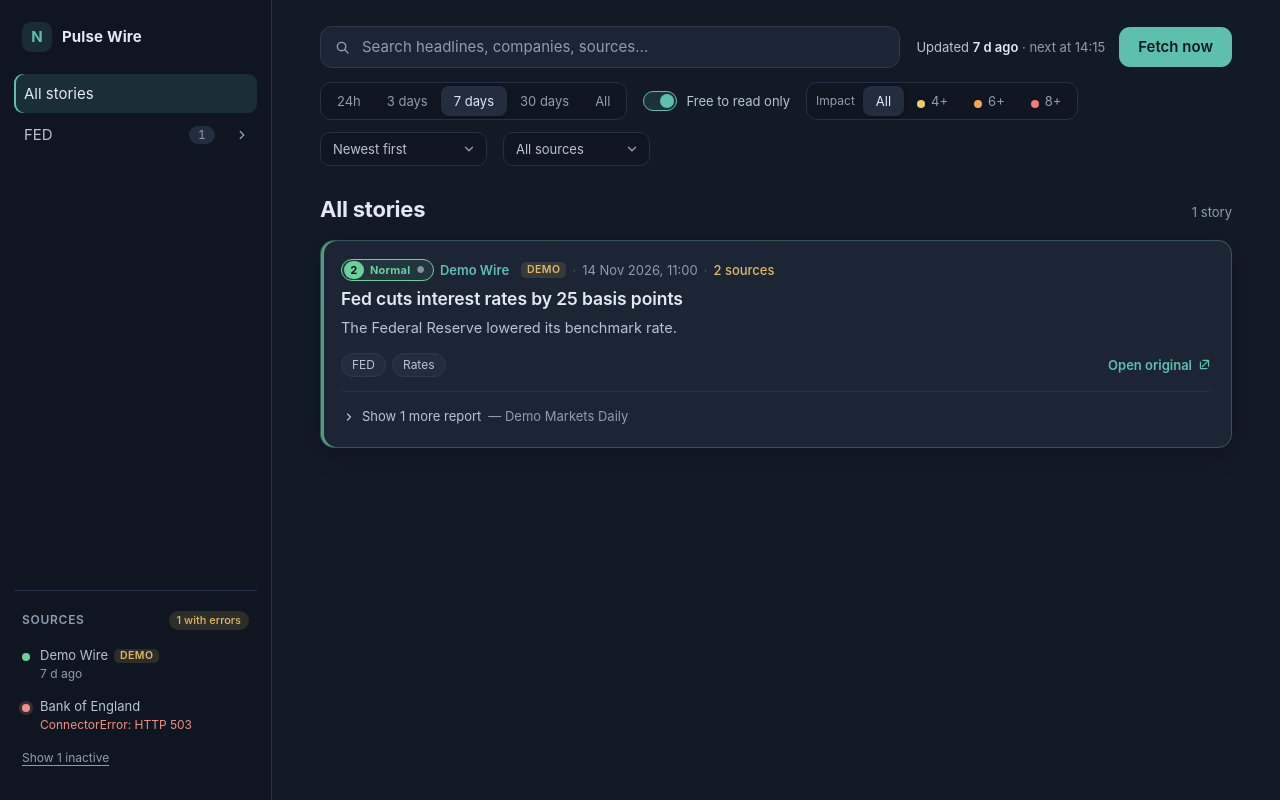
HomePage › Fetch now reports a coalesced scan and shows progress
Expected: the heading "Fed cuts interest rates by 25 basis points" is shown, [341,288,683,309]
Click the button "Fetch now".
click(1176, 47)  # box [1119,27,1232,67]
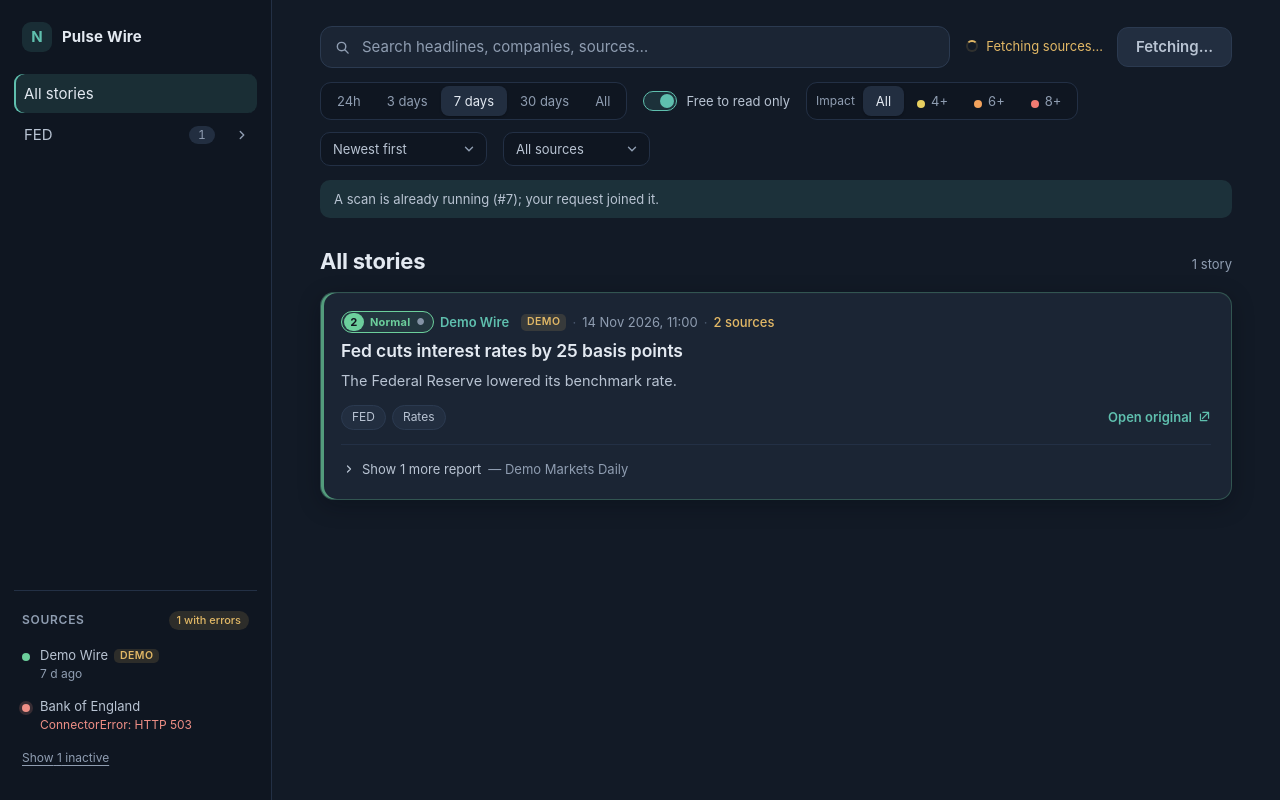
Result: the text "A scan is already running (#7); your request joined it." is shown at [320,180,1232,218]
Result: the text "Fetching sources…" is shown at [966,36,1103,56]
